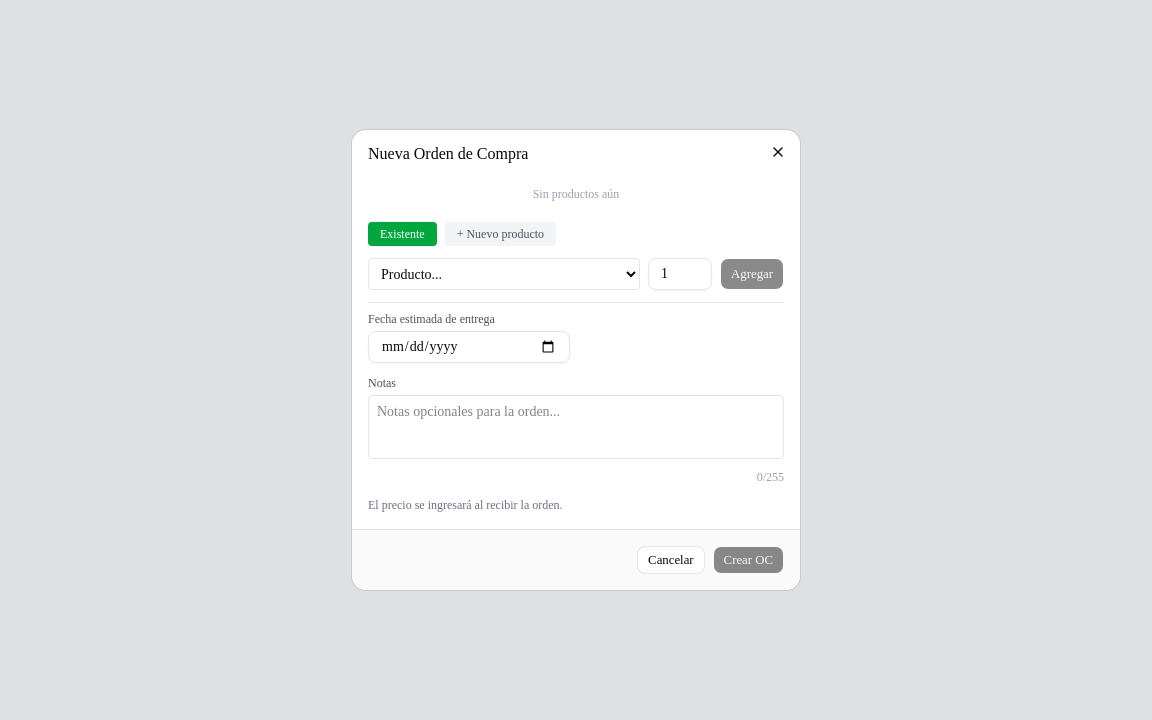
Scenario: CreateOrderDialog › COD-02: agregar item existente › permite cambiar cantidad antes de agregar
Replace the text in the number field with placeholder "Cant" with "5" at (680, 274), box [648,258,712,290]
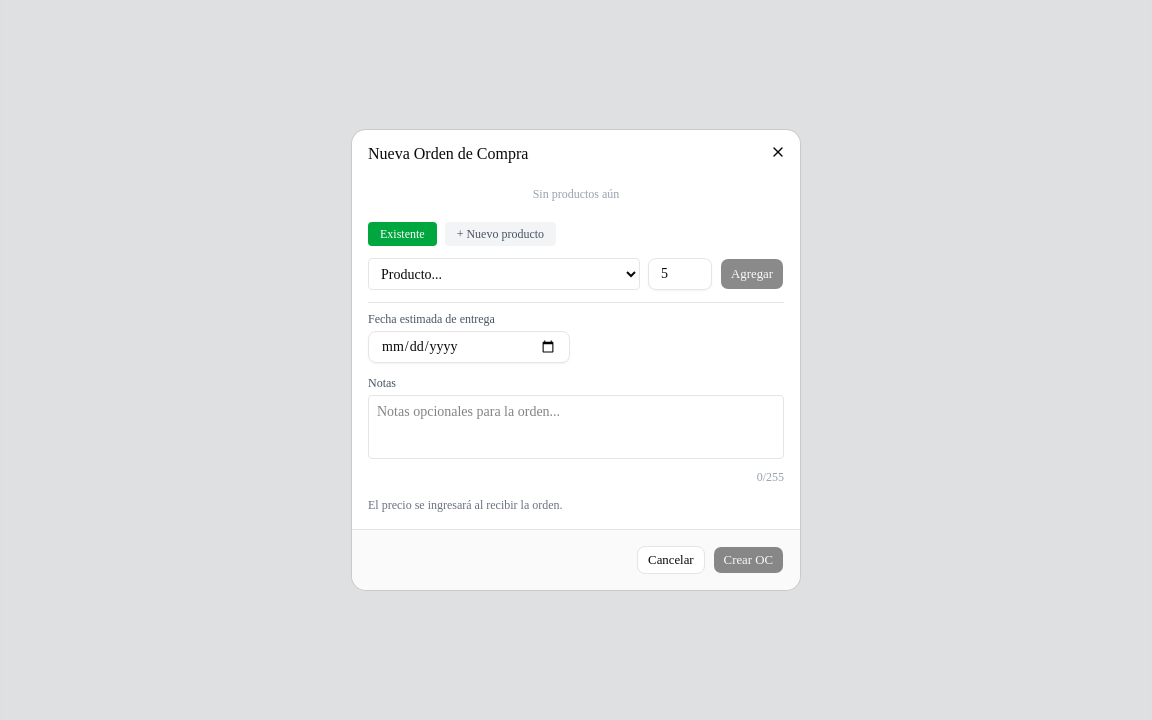
Select "Arena Gatitos" in the dropdown at (504, 274), box [368,258,640,290]
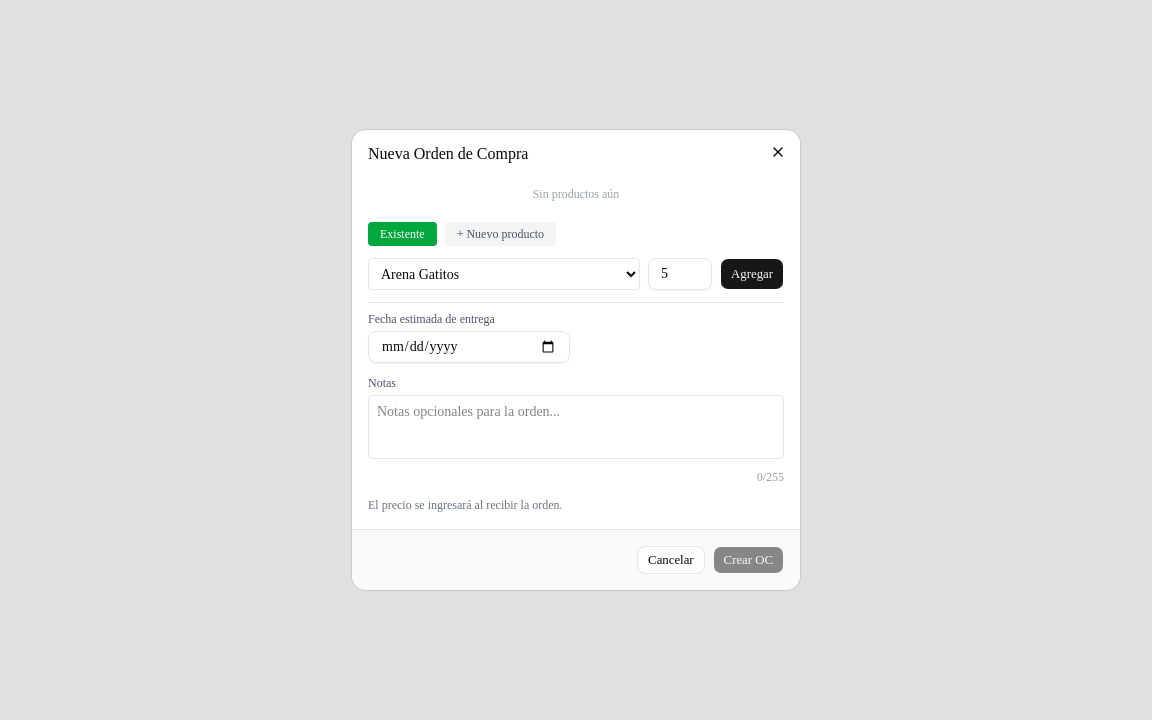
Click the button "Agregar" at (752, 274), box [720,258,784,290]
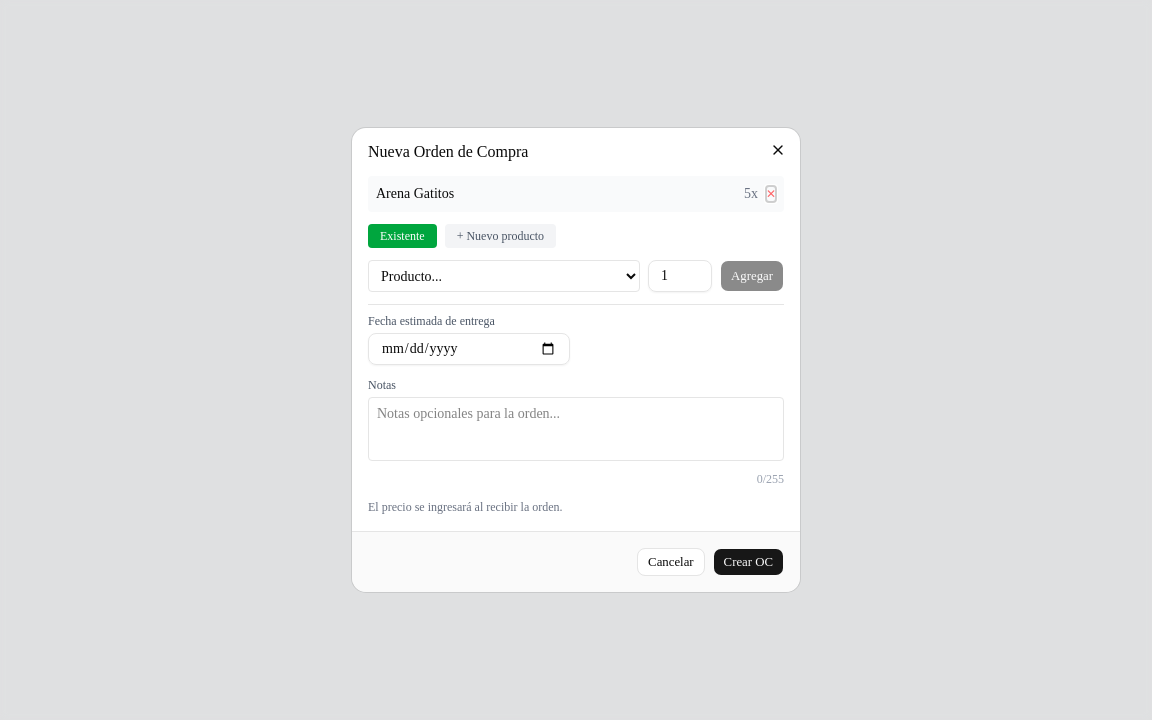
Check: the text "5x" is shown, box [744,184,758,204]
